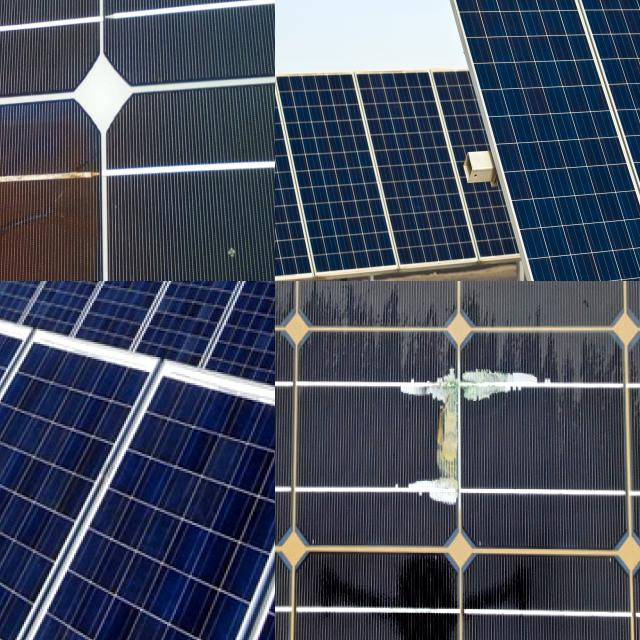crack: (0, 422, 275, 640), (447, 0, 640, 281), (0, 368, 186, 640), (344, 59, 487, 281), (275, 68, 407, 281), (563, 0, 640, 281), (275, 86, 337, 281)
shadow: (369, 351, 561, 534), (0, 113, 110, 281)
